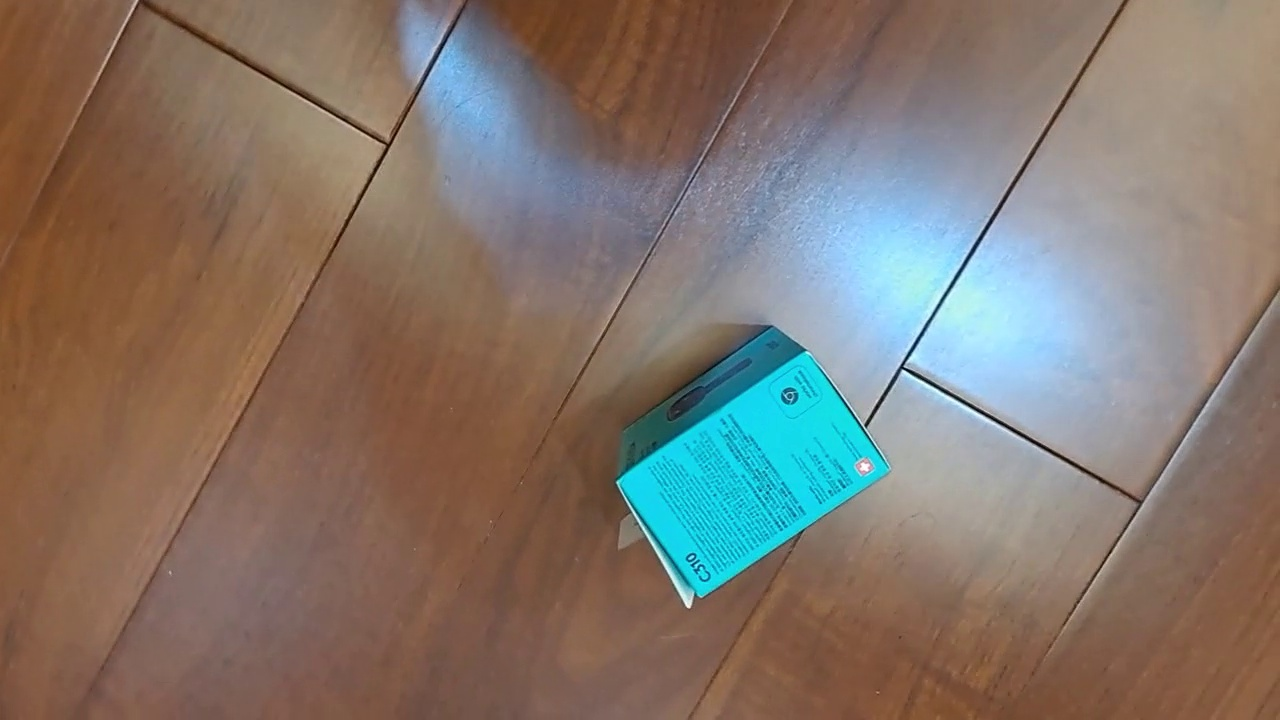webcam: (614, 325, 893, 611)
